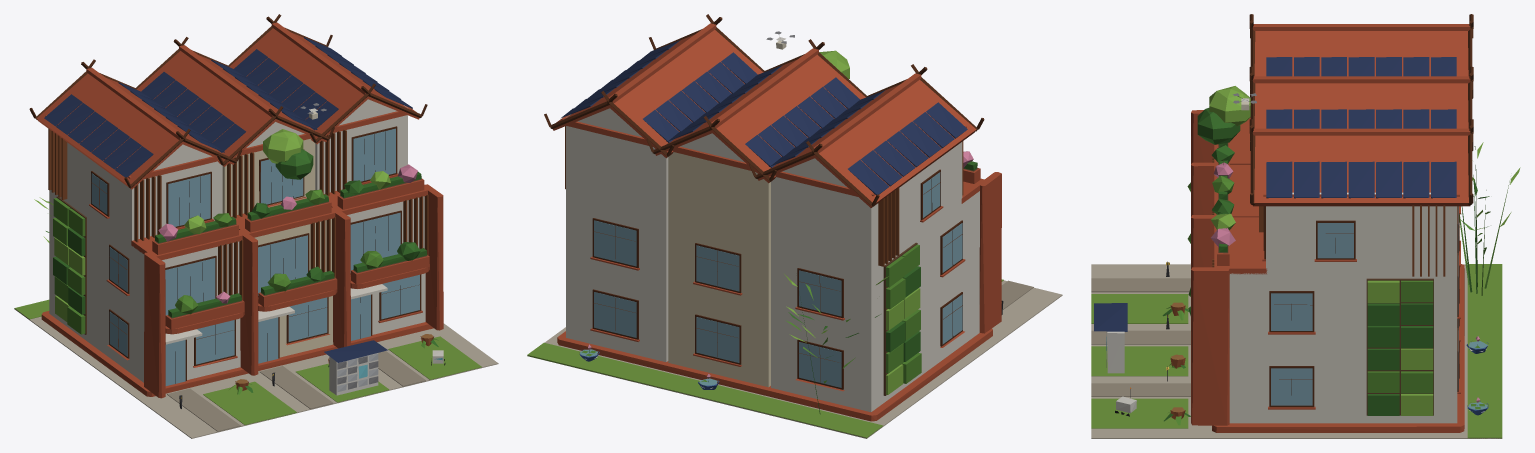
File: home_3.glb
3 views of the same model, side by side, from view 1: azimuth 30°, elevation 25°; view 2: azimuth 150°, elevation 25°; view 3: azimuth 270°, elevation 25° (orthographic). The views are drawn at different scales.
Parts seen in each view (by area): view 1: body; view 2: body; view 3: body.
Boxes of the visible parts, x1,y1,x2,y2 form: body: [14, 14, 498, 438]; body: [527, 14, 1062, 438]; body: [1091, 14, 1520, 438].
Bounding box in the file's own units: 15.9 × 12.46 × 16.6.
